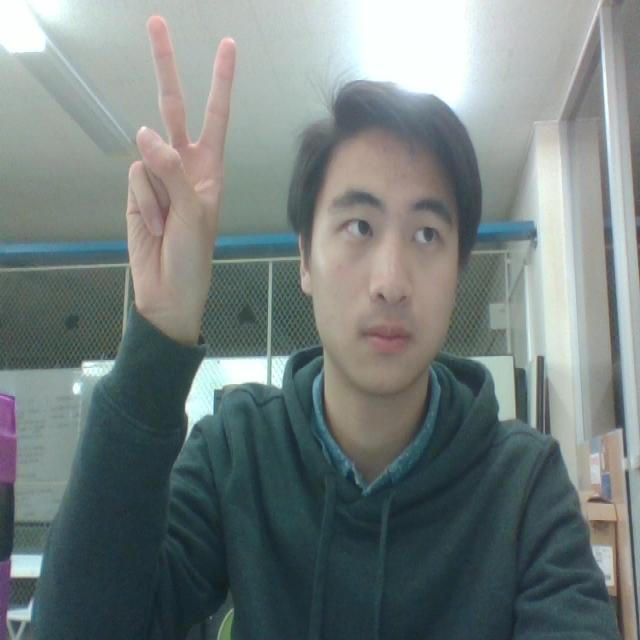V: (84, 15, 279, 360)
